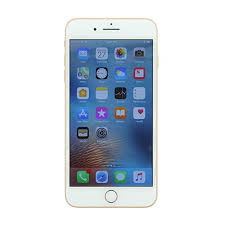iphone: (62, 14, 157, 209)
iphone8: (62, 14, 157, 209)
